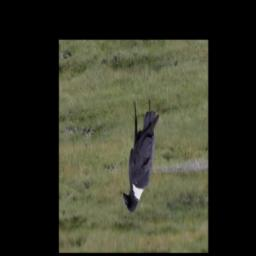Crow: (123, 101, 160, 214)
